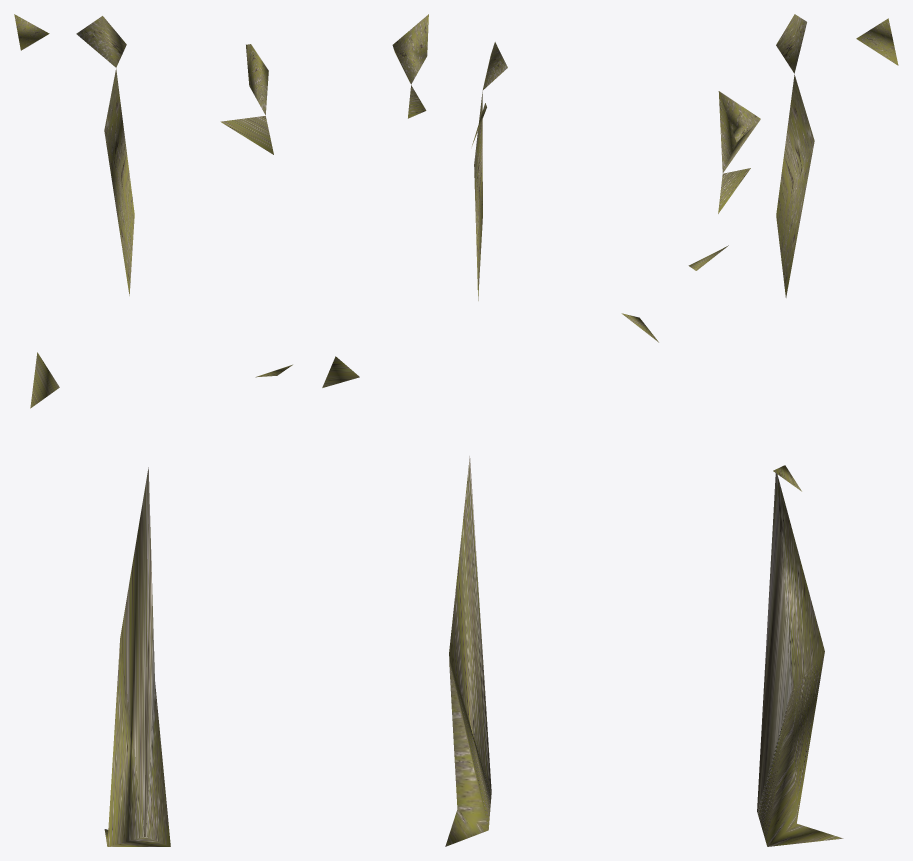
The model's file is betula-utilis-l5.glb.
3 views of the same model, side by side, from view 1: azimuth 30°, elevation 25°; view 2: azimuth 150°, elevation 25°; view 3: azimuth 270°, elevation 25° (orthographic). The views are drawn at different scales.
Visible parts, largest first — view 1: world; view 2: world; view 3: world.
Boxes of the visible parts, x1,y1,x2,y2 form: world: (14,14,292,846); world: (322,14,658,846); world: (688,14,898,846).
Bounding box in the file's own units: 3.97 × 10.5 × 2.46.
1 material, 1 textured.
